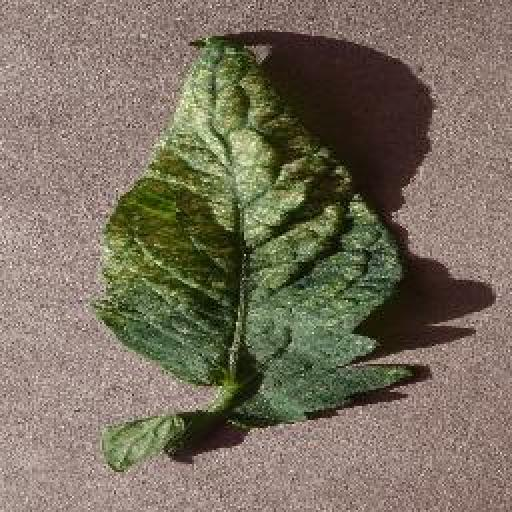Spider Mites: (89, 36, 415, 429)
